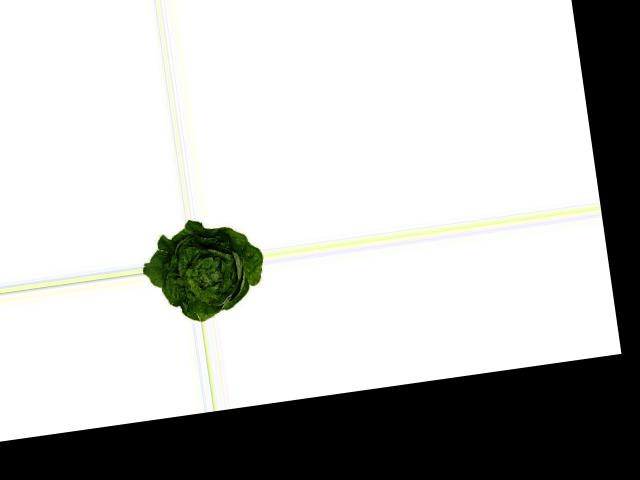lettuce: (140, 210, 271, 327)
